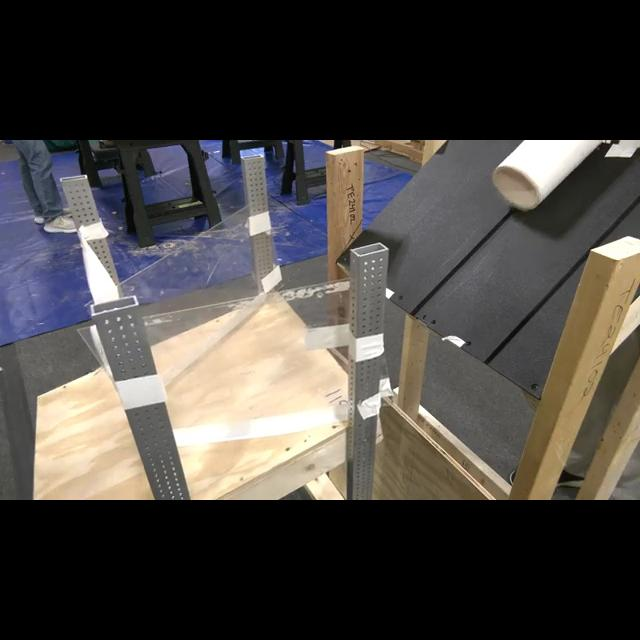CORAL: (491, 140, 603, 212)
